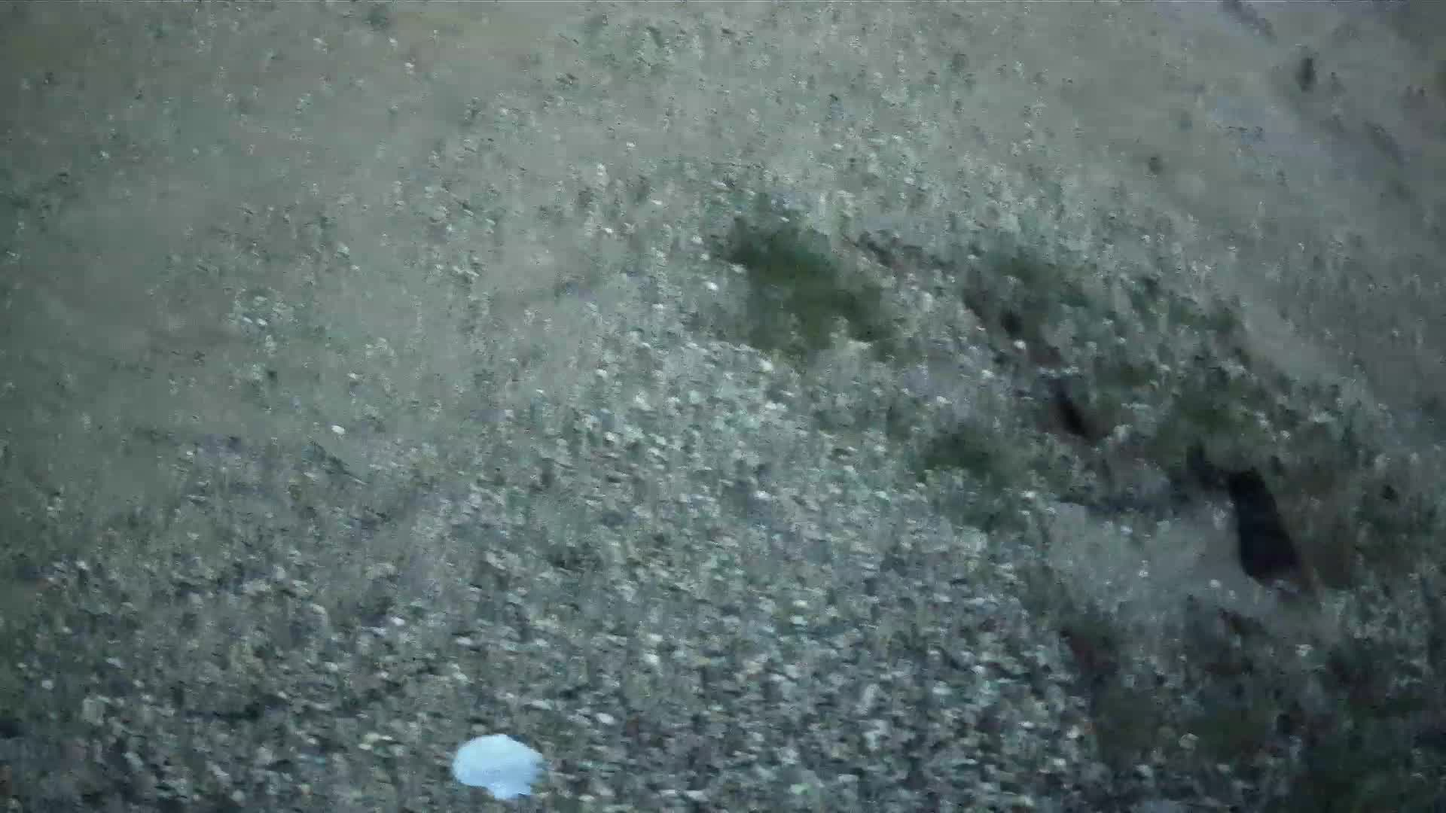Target: (446, 726, 553, 807)
